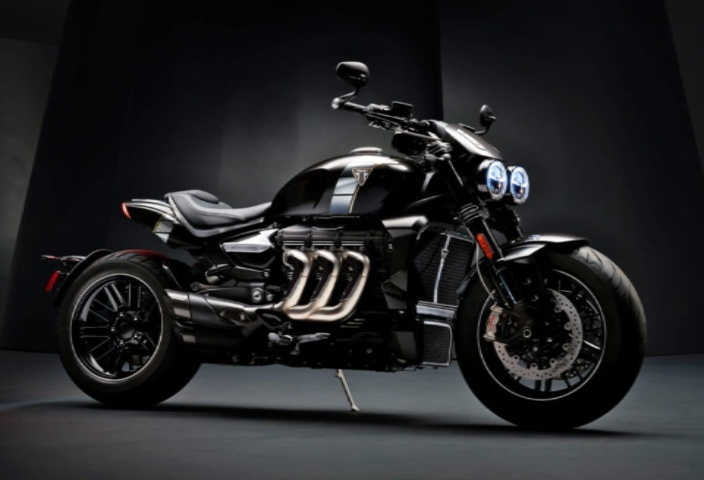motorcycle: (23, 59, 647, 441)
